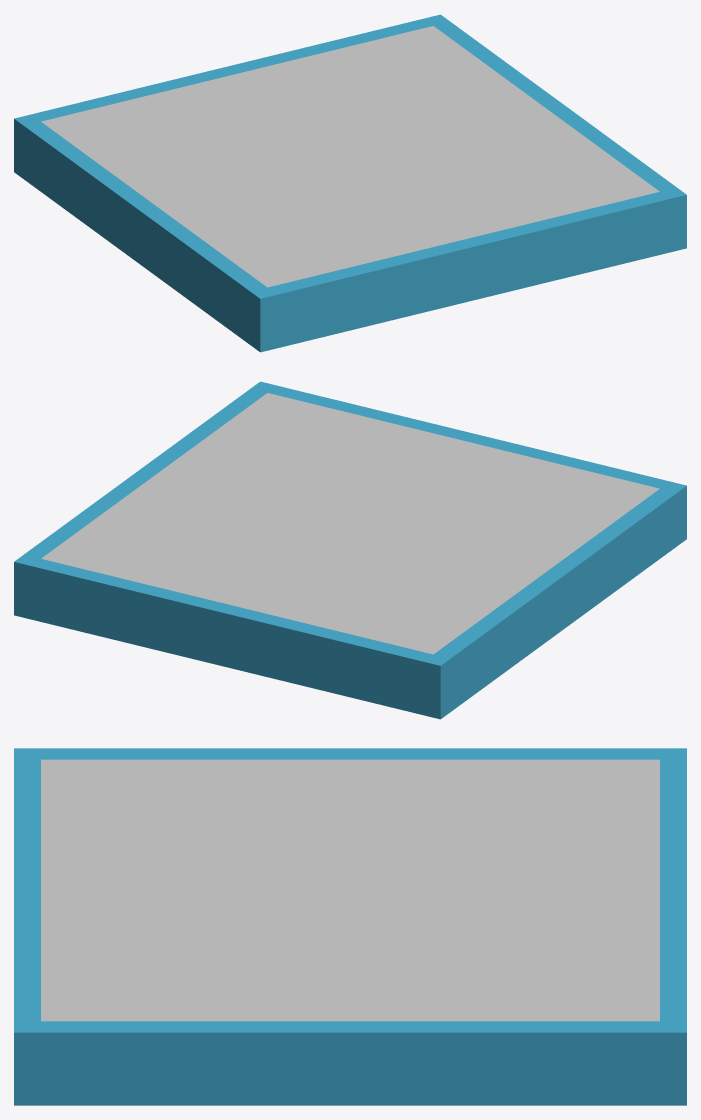
Rendered from mat_piece.dae.
The picture shows the model from 3 angles, top to bottom: view 1: azimuth 30°, elevation 25°; view 2: azimuth 150°, elevation 25°; view 3: azimuth 270°, elevation 25°; orthographic projection. The views are drawn at different scales.
Parts seen in each view (by area): view 1: mat_piece.mat_piece; view 2: mat_piece.mat_piece; view 3: mat_piece.mat_piece.
Part boxes in pixels (box(x1,y1,x2,y2)): mat_piece.mat_piece: box(14, 14, 686, 352); mat_piece.mat_piece: box(14, 381, 686, 719); mat_piece.mat_piece: box(14, 748, 686, 1105).
Bounding box in the file's own units: 2.5 × 2.5 × 0.3.
